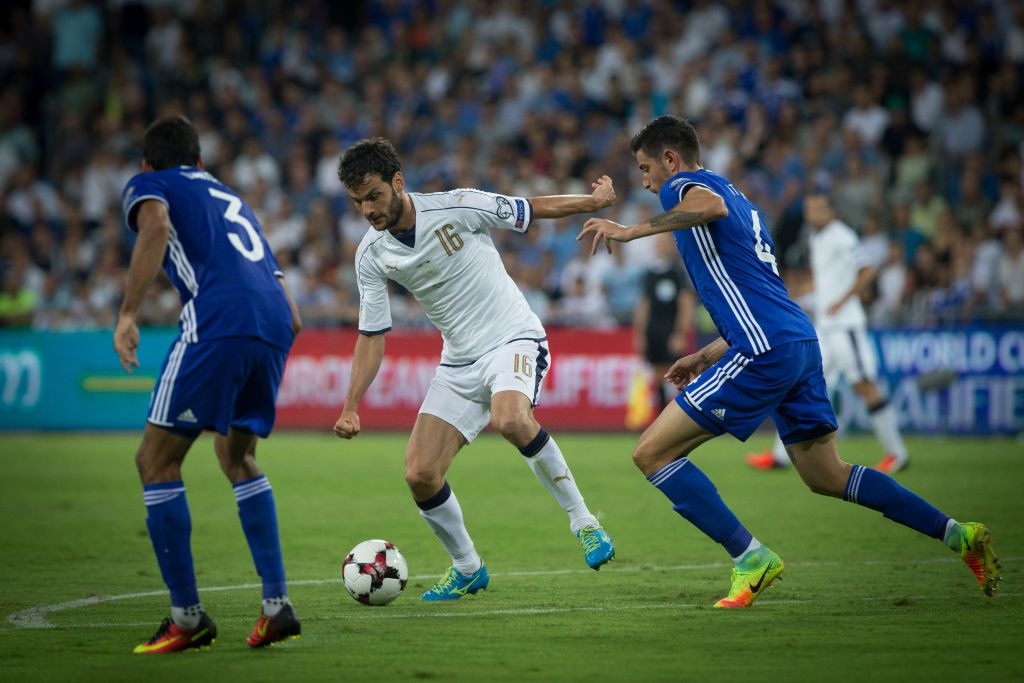soccer player: (579, 118, 1024, 611), (330, 127, 618, 612), (106, 110, 309, 654), (800, 182, 906, 476)
soccerball: (339, 536, 417, 608)
